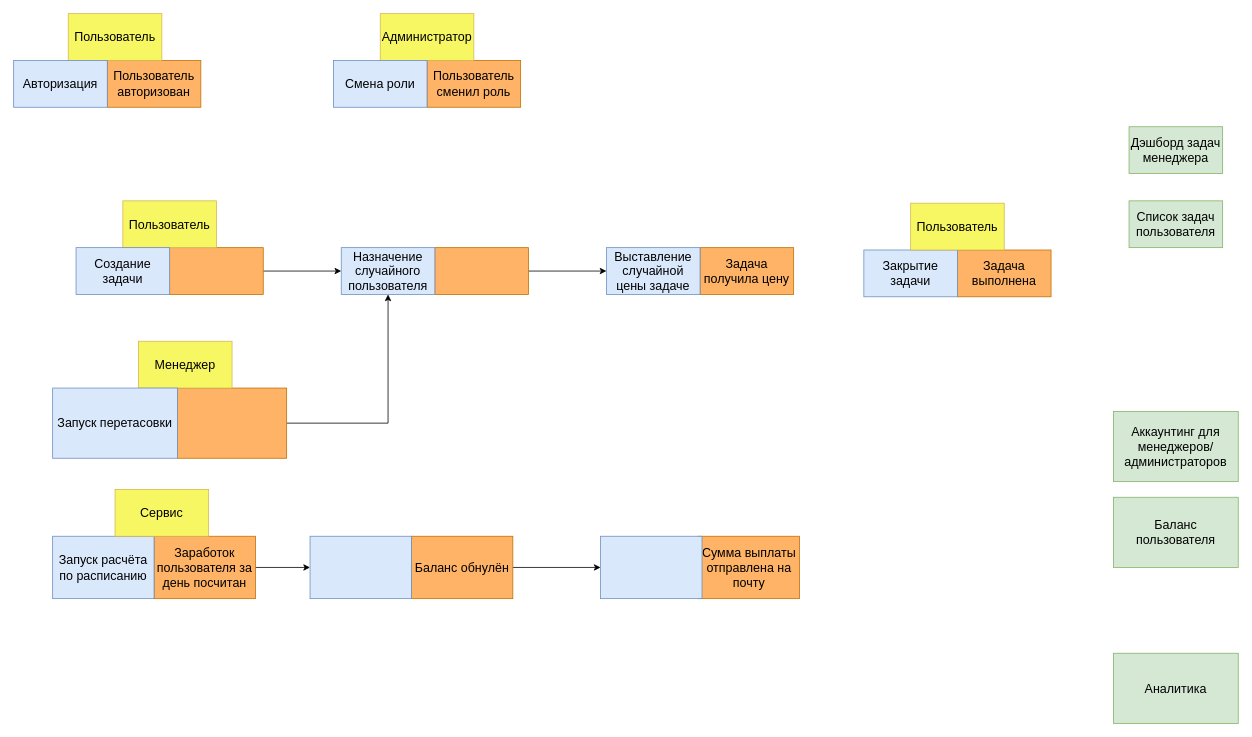
Some shapes in this 1252 by 737 pixel diagram are drawn without their labels. The shapes that lost their labels are listed below. From the top down, each one's box as (x1, y1, x2, y2) in pixels, then its label:
(169, 247, 263, 294): Задача создана
(434, 247, 528, 294): Задача назначена на пользователя
(177, 387, 287, 458): Все открытые задачи перетасованы
(309, 535, 411, 599): Сброс баланса каждого пользователя
(600, 535, 702, 599): Отправка письма
